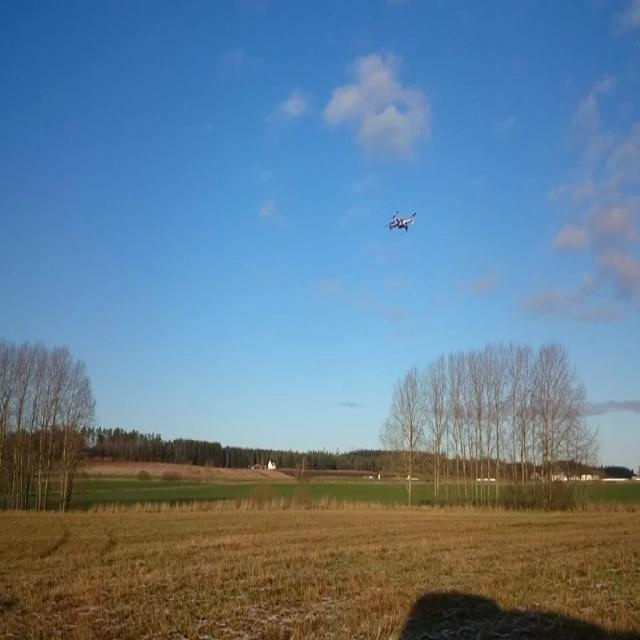drone: (388, 210, 417, 232)
